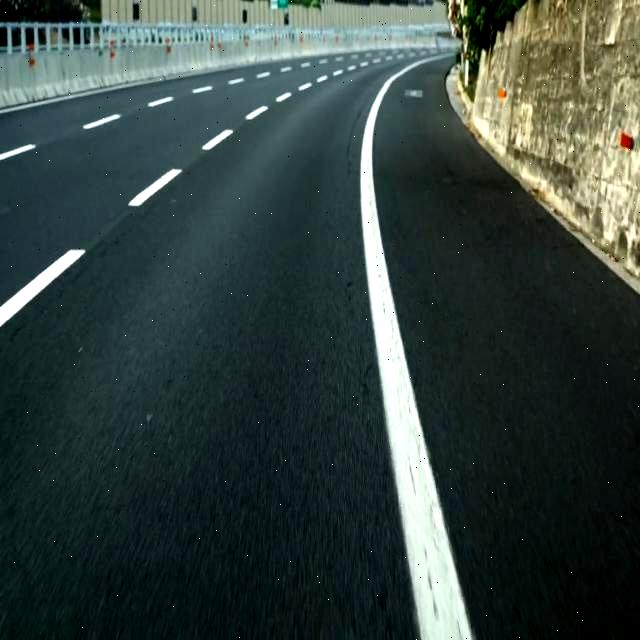lane: (361, 56, 474, 640), (0, 250, 85, 326), (129, 169, 182, 206), (202, 129, 232, 151), (0, 144, 36, 161), (82, 114, 121, 129)
road: (0, 61, 419, 639), (373, 59, 639, 639), (0, 57, 349, 304)
